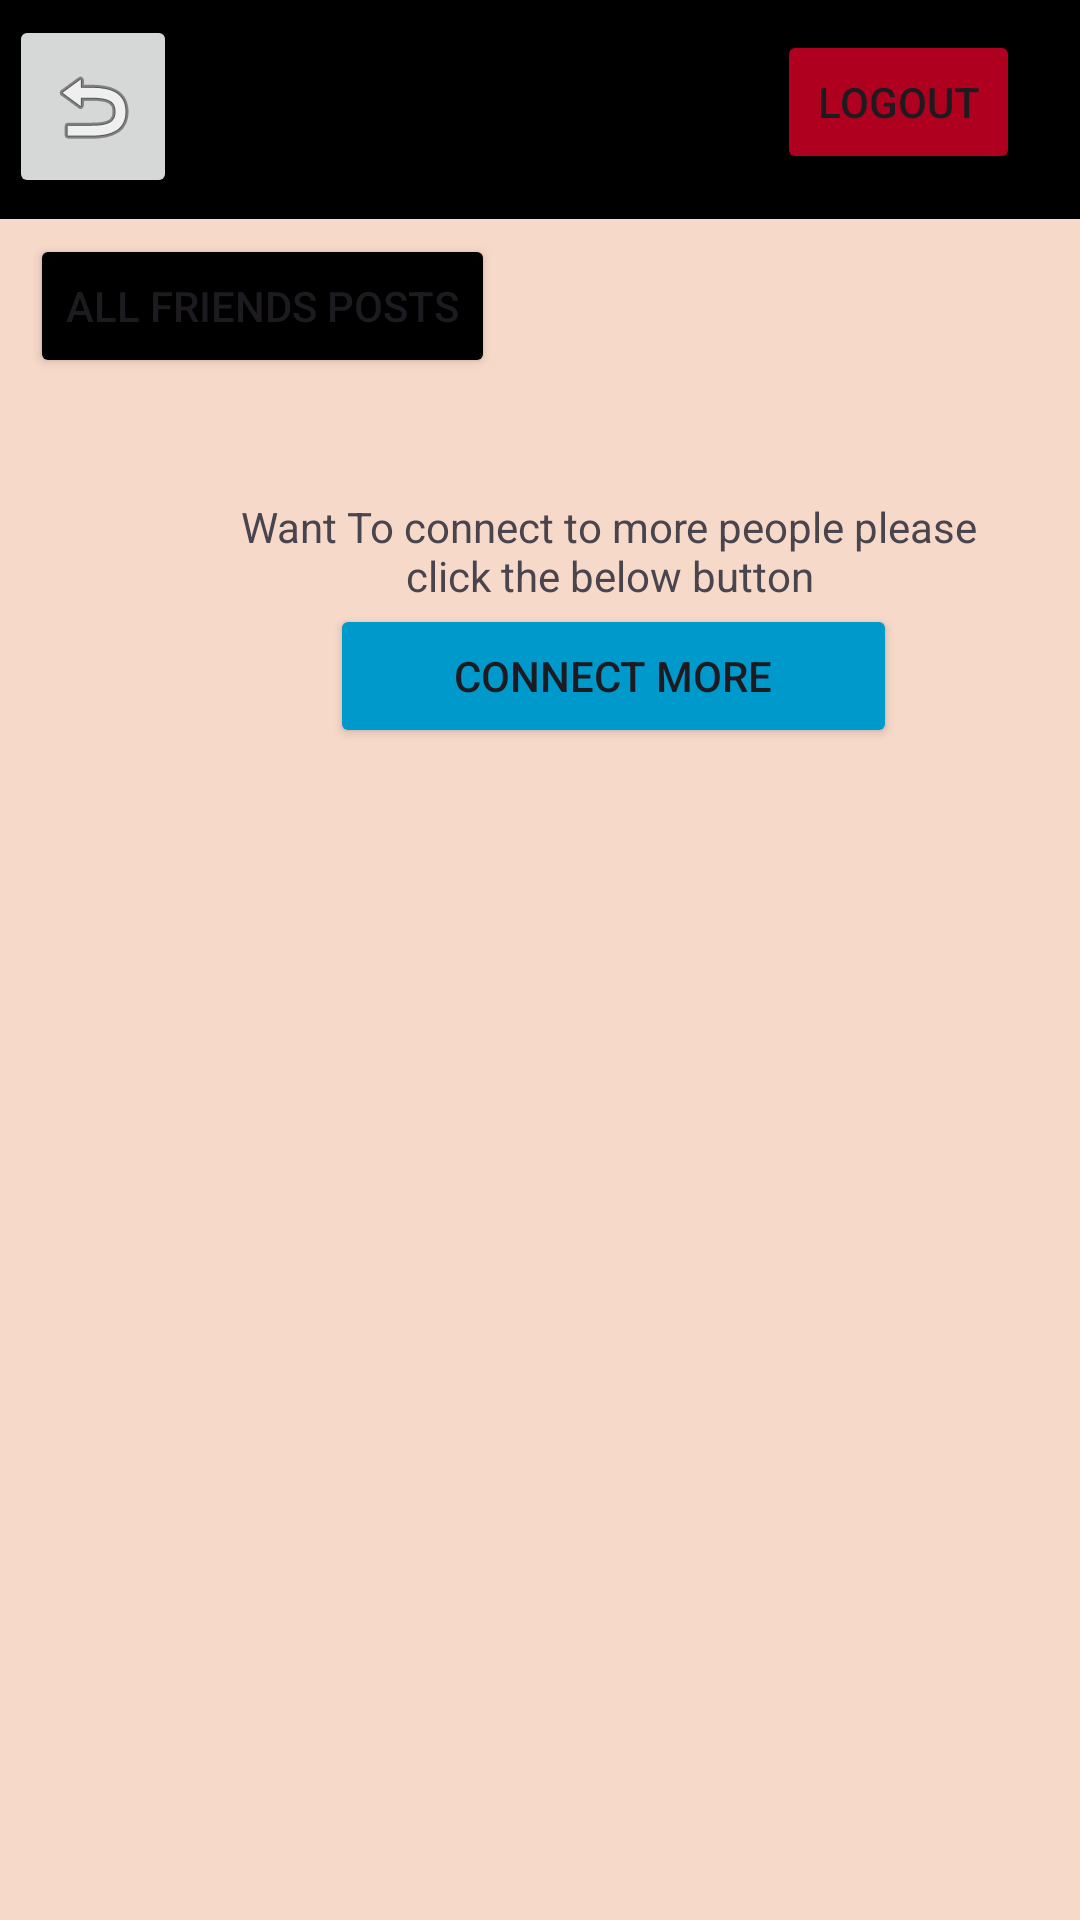

Where icons sit on this 1080px×1920px app screen, as [x1,y1,x2,y2]:
back: [21,33,165,180]
